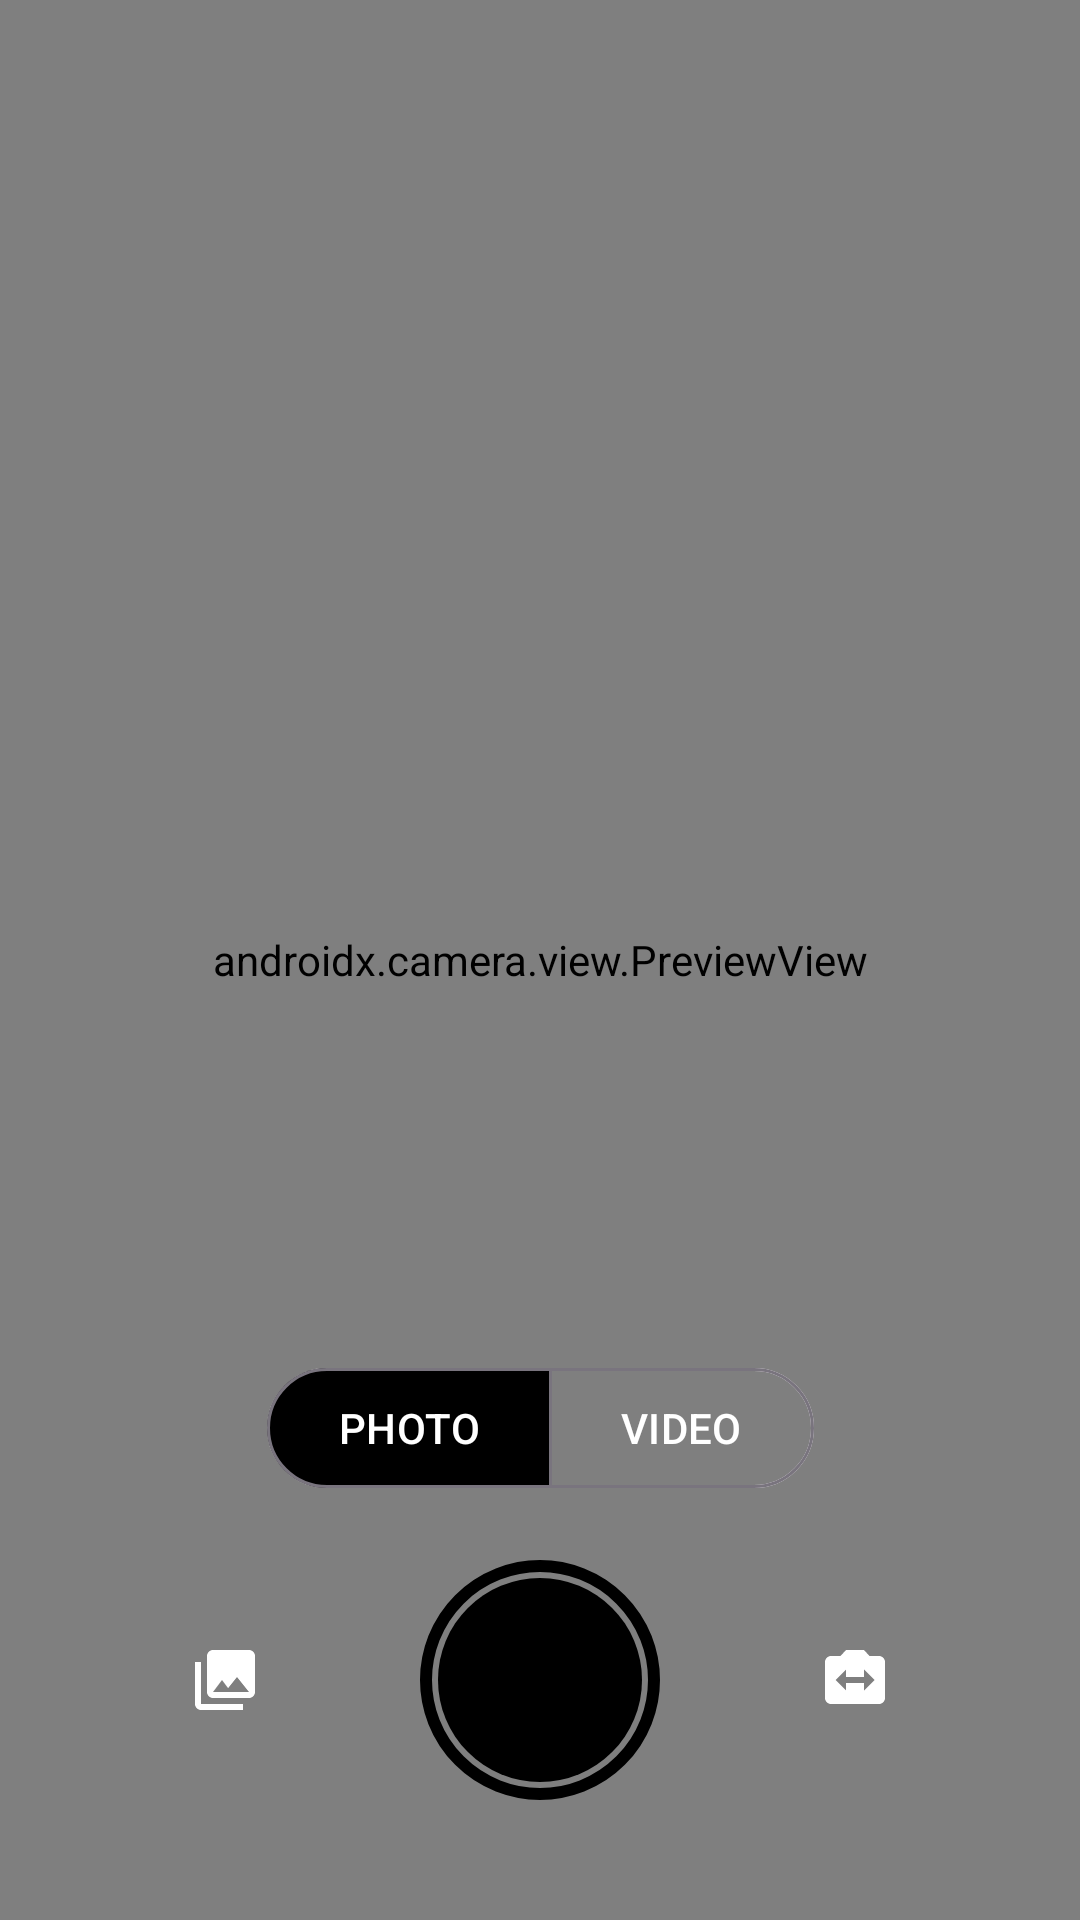

Icons on this 1080px×1920px Android screen, each with the point to tap as [x,y]:
gallery: [225,1680]
switch camera: [855,1677]
